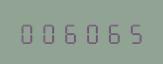five: (123, 20, 143, 44)
six: (60, 20, 80, 44), (102, 20, 122, 44)
zero: (17, 20, 37, 44), (38, 20, 58, 44), (81, 20, 101, 44)
